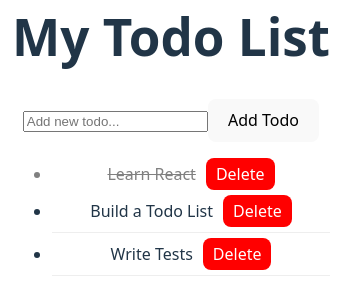
it: deletes a todo item
What coordinates should you click on to do the following:
click the button "Delete" next to "Learn React"
I would click on:
 (240, 174)
Its box is [206,158,275,190].
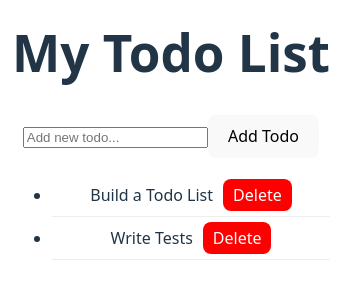
Expected: the list item "Learn React" is gone
